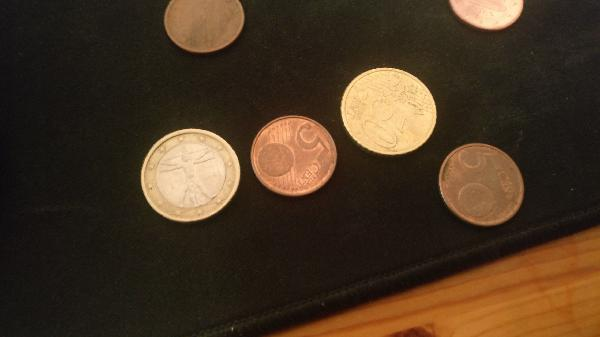Fifty Cent: (335, 66, 438, 159)
Five Cent: (438, 142, 534, 227), (252, 114, 341, 192), (163, 1, 248, 57), (445, 1, 523, 34)
One Euro: (142, 126, 243, 221)
